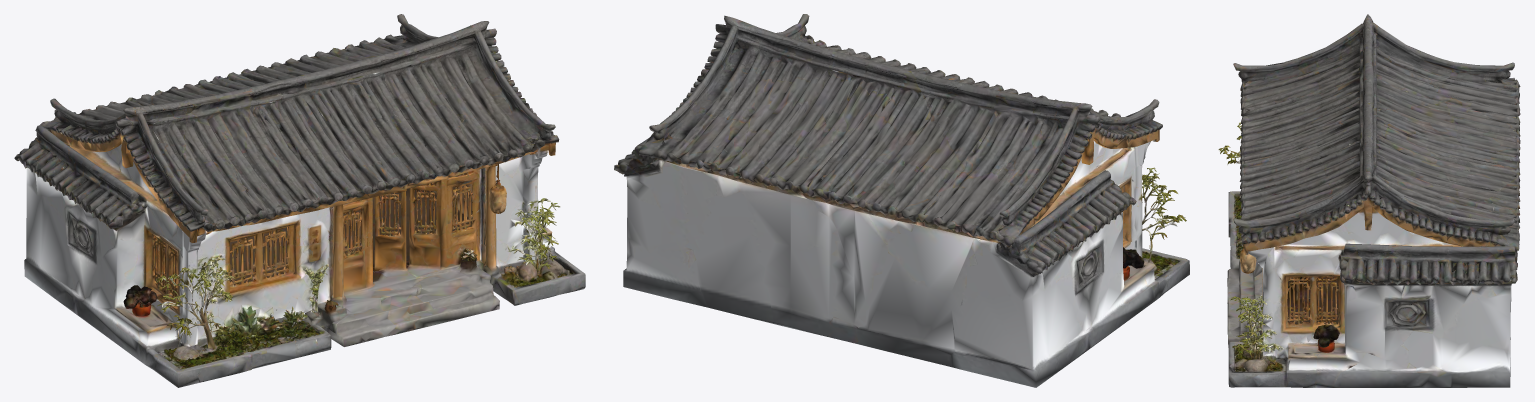
The model's file is lib_courtyard.glb.
The picture shows the model from 3 angles, left to right: view 1: azimuth 30°, elevation 25°; view 2: azimuth 150°, elevation 25°; view 3: azimuth 270°, elevation 25°; orthographic projection. The views are drawn at different scales.
Bounding box in the file's own units: 1.88 × 0.9287 × 1.26.
Materials: 1 (1 with a texture image).
